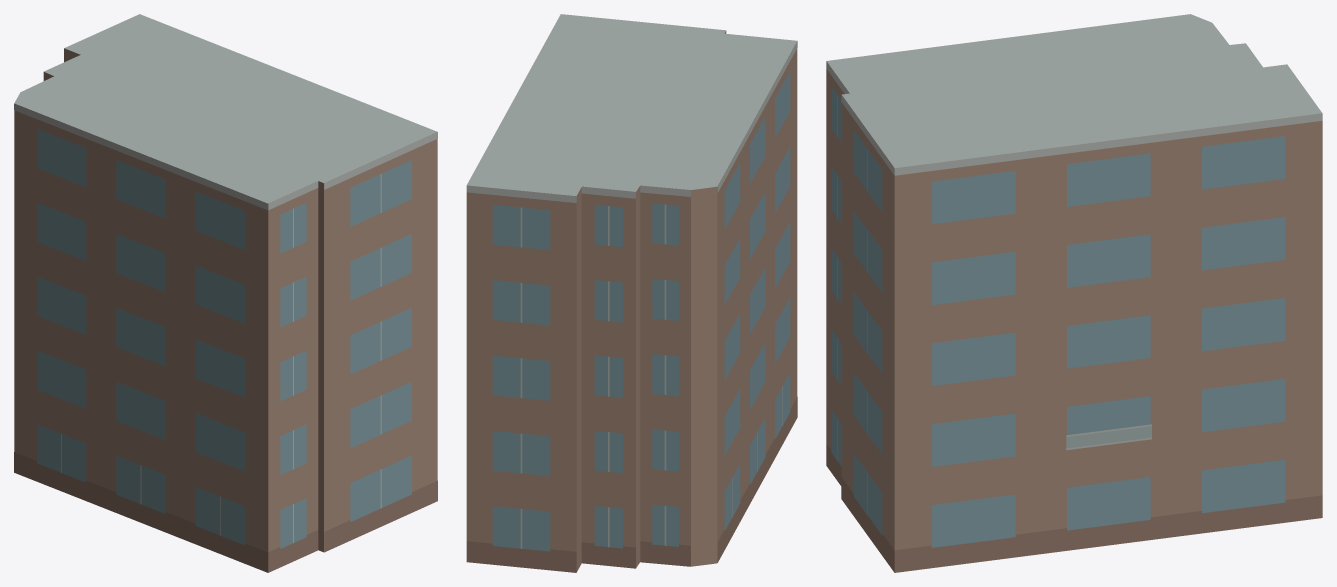
File: survey-upis-32577730.glb
The picture shows the model from 3 angles, left to right: view 1: azimuth 30°, elevation 25°; view 2: azimuth 150°, elevation 25°; view 3: azimuth 270°, elevation 25°; orthographic projection. The views are drawn at different scales.
Visible parts, largest first — view 1: survey-upis-32577730.tmp; view 2: survey-upis-32577730.tmp; view 3: survey-upis-32577730.tmp.
Part boxes in pixels (bbox=[...]): survey-upis-32577730.tmp: bbox=[14, 14, 437, 572]; survey-upis-32577730.tmp: bbox=[466, 14, 797, 572]; survey-upis-32577730.tmp: bbox=[826, 14, 1322, 572].
Bounding box in the file's own units: 10.89 × 13.3 × 14.79.
